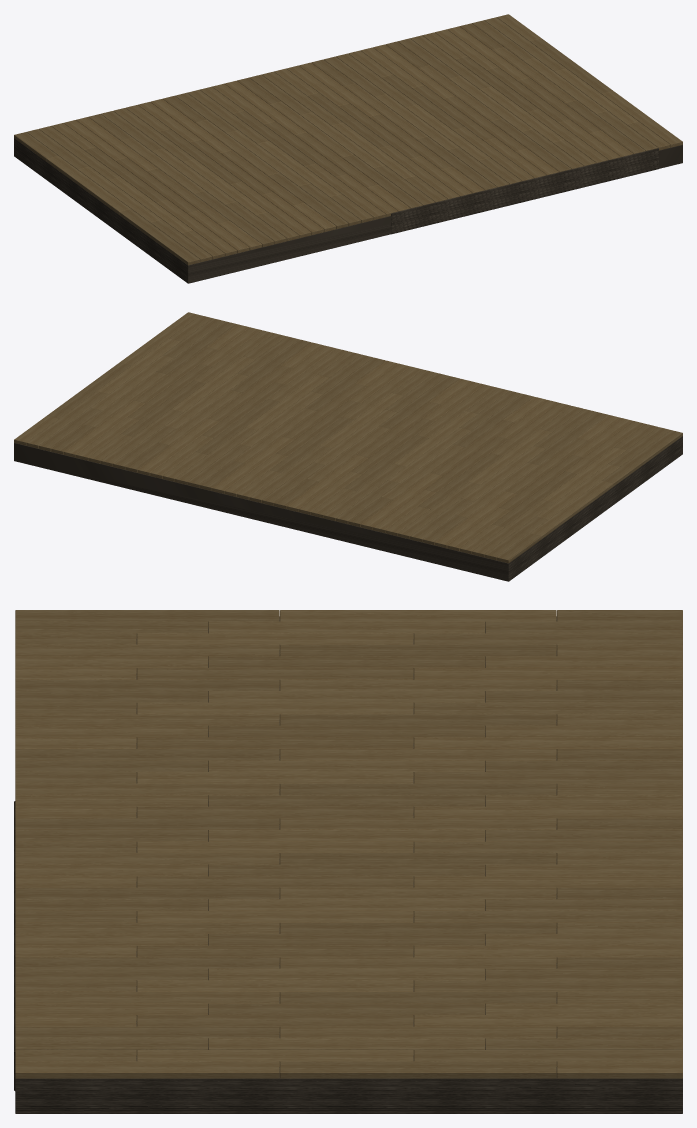
3 views of the same model, one above another, from view 1: azimuth 30°, elevation 25°; view 2: azimuth 150°, elevation 25°; view 3: azimuth 270°, elevation 25° (orthographic). The views are drawn at different scales.
Parts seen in each view (by area): view 1: Mesh_warm, Mesh_dark; view 2: Mesh_warm, Mesh_dark; view 3: Mesh_warm, Mesh_dark.
Part boxes in pixels (left/top/right/bottom): Mesh_warm: left=14, top=14, right=682, bottom=265; Mesh_dark: left=14, top=138, right=682, bottom=283; Mesh_warm: left=14, top=312, right=682, bottom=563; Mesh_dark: left=14, top=436, right=682, bottom=581; Mesh_warm: left=15, top=610, right=682, bottom=1078; Mesh_dark: left=14, top=616, right=682, bottom=1113.
Size of the model in its own units: 7.2 by 0.3 by 4.4.
Materials: 2 (2 with a texture image).
